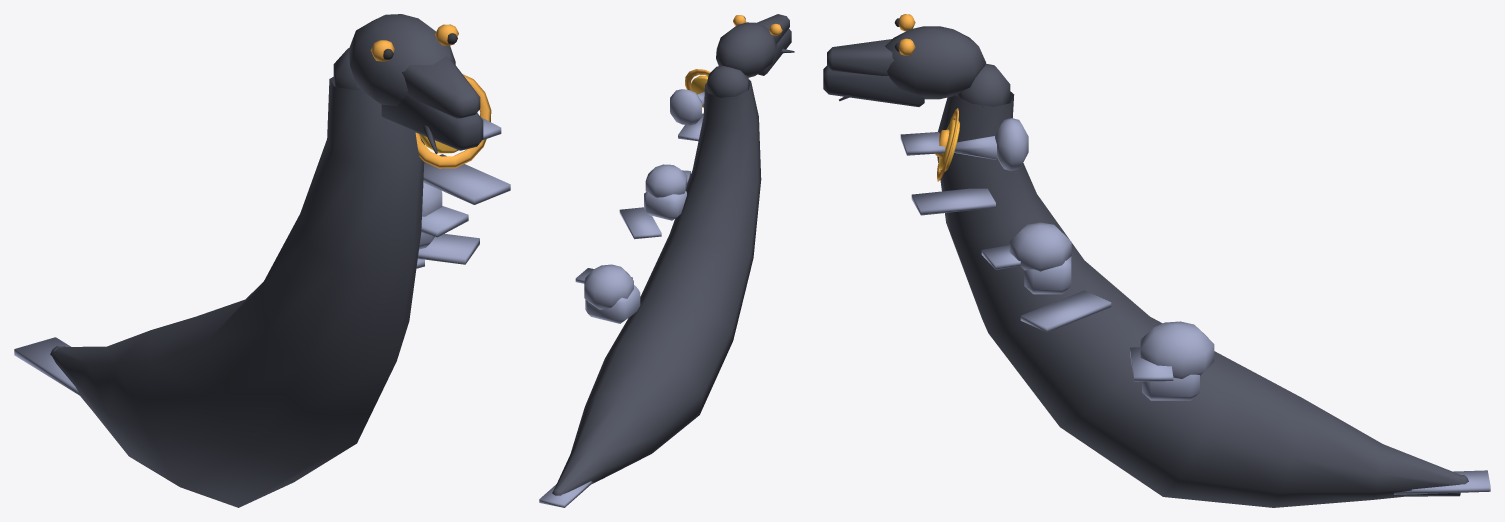
Rendered from riptide_eel.glb.
3 renders of one model, left to right at view 1: azimuth 30°, elevation 25°; view 2: azimuth 150°, elevation 25°; view 3: azimuth 270°, elevation 25°, orthographic. The views are drawn at different scales.
Visible parts, largest first — view 1: RiptideEel; view 2: RiptideEel; view 3: RiptideEel.
Part boxes in pixels (box(x1,y1,x2,y2)): RiptideEel: box(14, 14, 510, 507); RiptideEel: box(539, 14, 794, 507); RiptideEel: box(823, 14, 1490, 507).
Bounding box in the file's own units: 1.25 × 3 × 3.82.
Materials: 1 (1 with a texture image).
